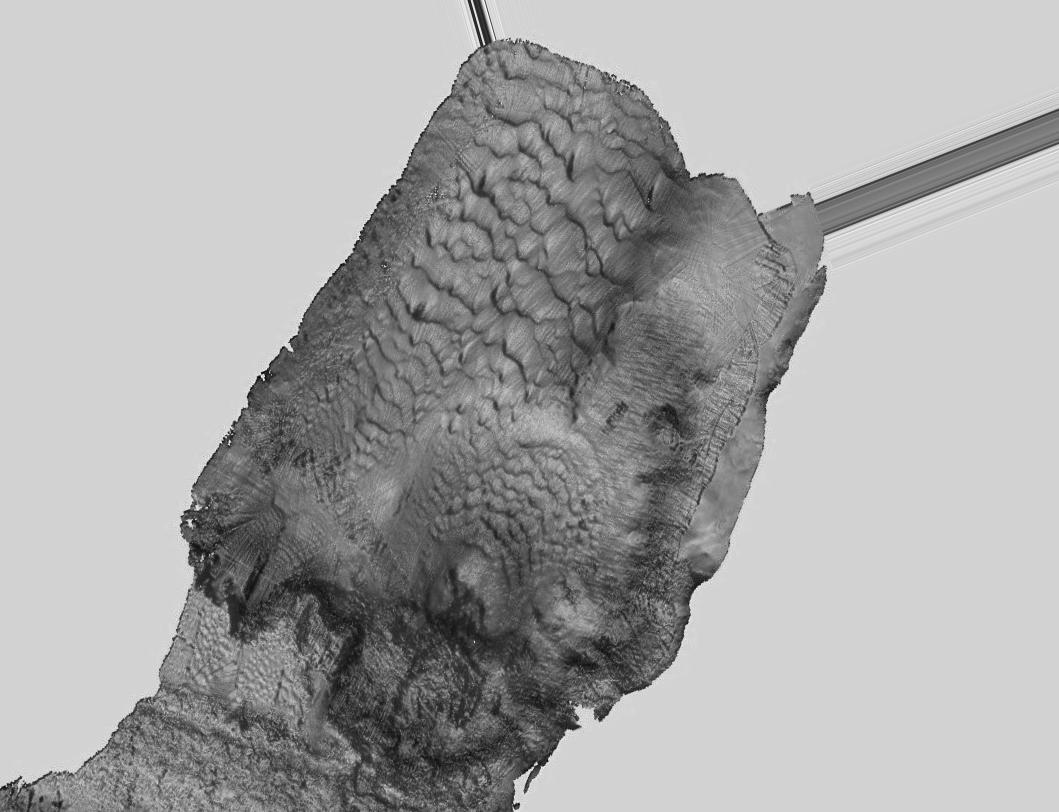Dune: (501, 84, 628, 322), (404, 174, 539, 358), (327, 320, 474, 456), (452, 450, 588, 561)
Scarp: (619, 459, 771, 749), (316, 722, 437, 806)
Submerged dike: (76, 685, 331, 808)
